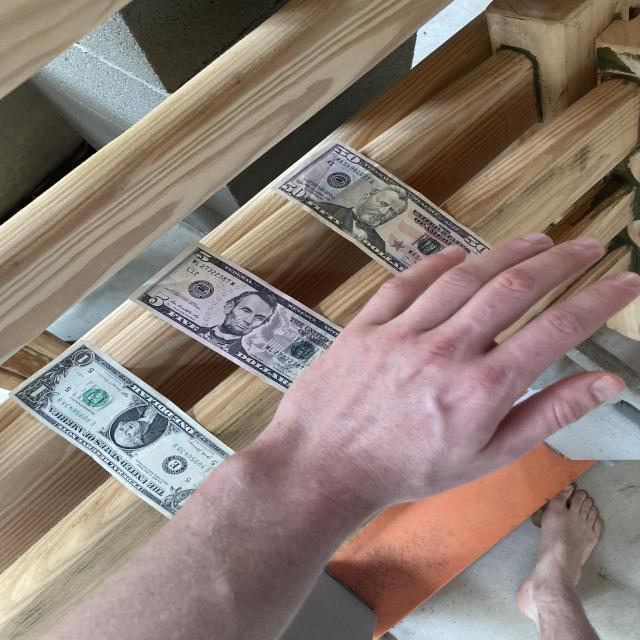fifty: (273, 139, 497, 301)
five: (127, 240, 348, 395)
one: (5, 336, 239, 521)
